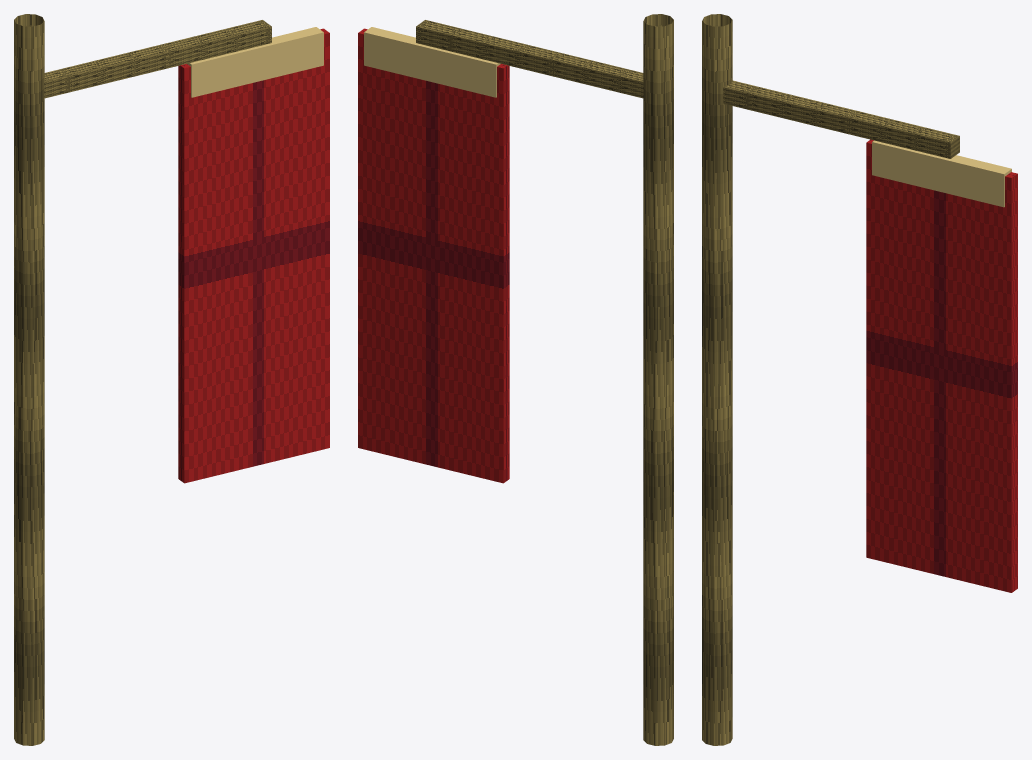
Rendered from banner.glb.
The picture shows the model from 3 angles, left to right: view 1: azimuth 30°, elevation 25°; view 2: azimuth 150°, elevation 25°; view 3: azimuth 330°, elevation 25°; orthographic projection.
Parts seen in each view (by area): view 1: banner; view 2: banner; view 3: banner.
Boxes of the visible parts, left/top/right/bottom form: banner: left=14, top=14, right=329, bottom=745; banner: left=358, top=14, right=673, bottom=745; banner: left=702, top=14, right=1017, bottom=745.
Size of the model in its own units: 1.18 by 2.6 by 0.0951.
Materials: 3 (2 with a texture image).
